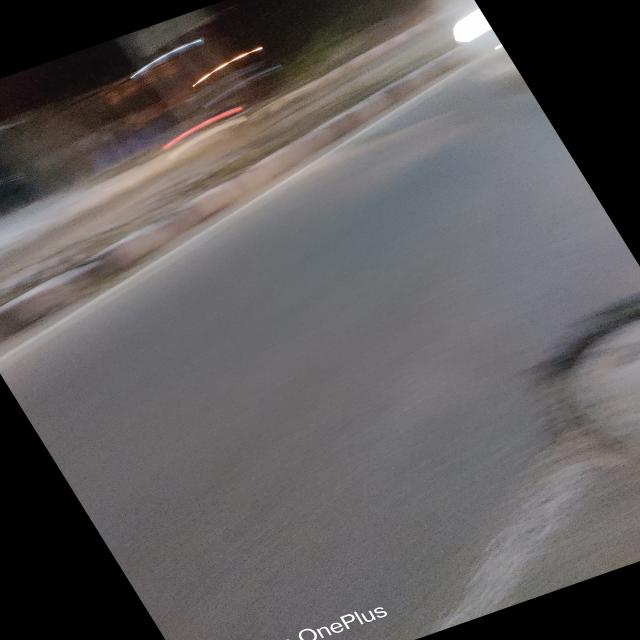potholes: (547, 295, 629, 475)
